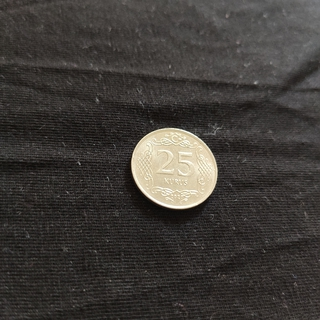25KURUS: (128, 126, 219, 212)
